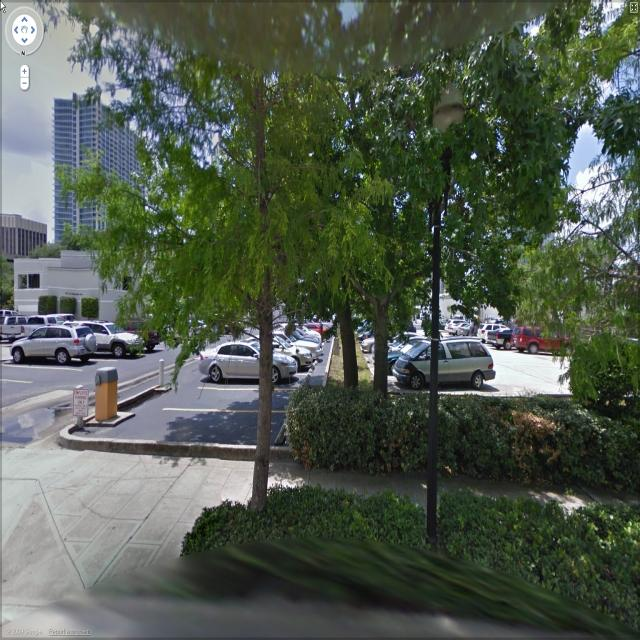b_2: (12, 242, 202, 352), (52, 84, 154, 254), (3, 204, 53, 261)
